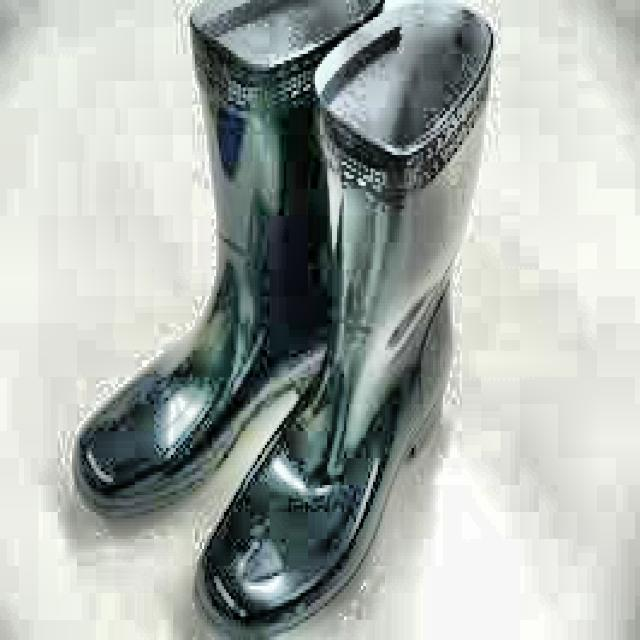shoes: (77, 4, 491, 620)
